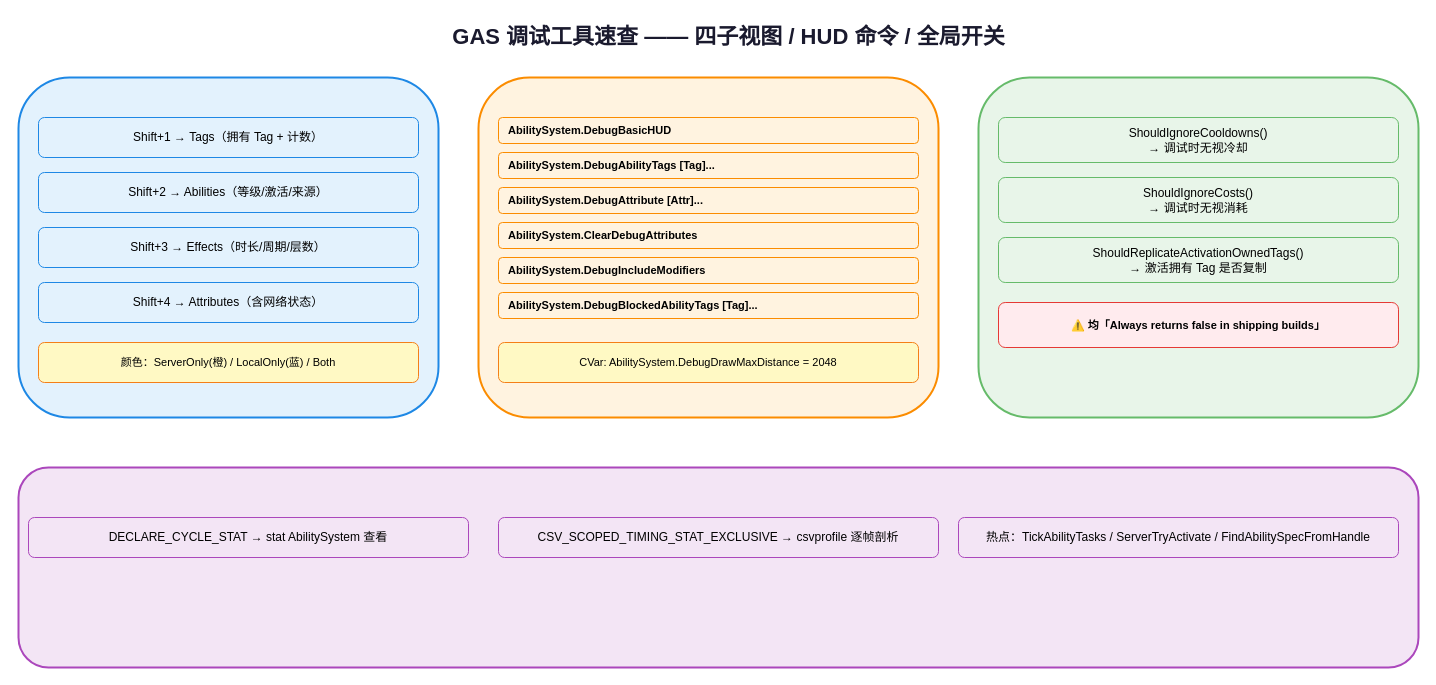
This 1436x685 diagram has some shape labels left out. The box of each missing label's shape, as (x1, y1, x2, y2) in pixels:
GameplayDebugger 四子视图 （按 ' 呼出，Shift+数字切换）: (17, 76, 439, 418)
HUD 调试命令 （#if !UE_BUILD_SHIPPING）: (477, 76, 939, 418)
全局开关（AbilitySystemGlobals）: (977, 76, 1419, 418)
性能剖析 STATGROUP_AbilitySystem: (17, 466, 1419, 668)
